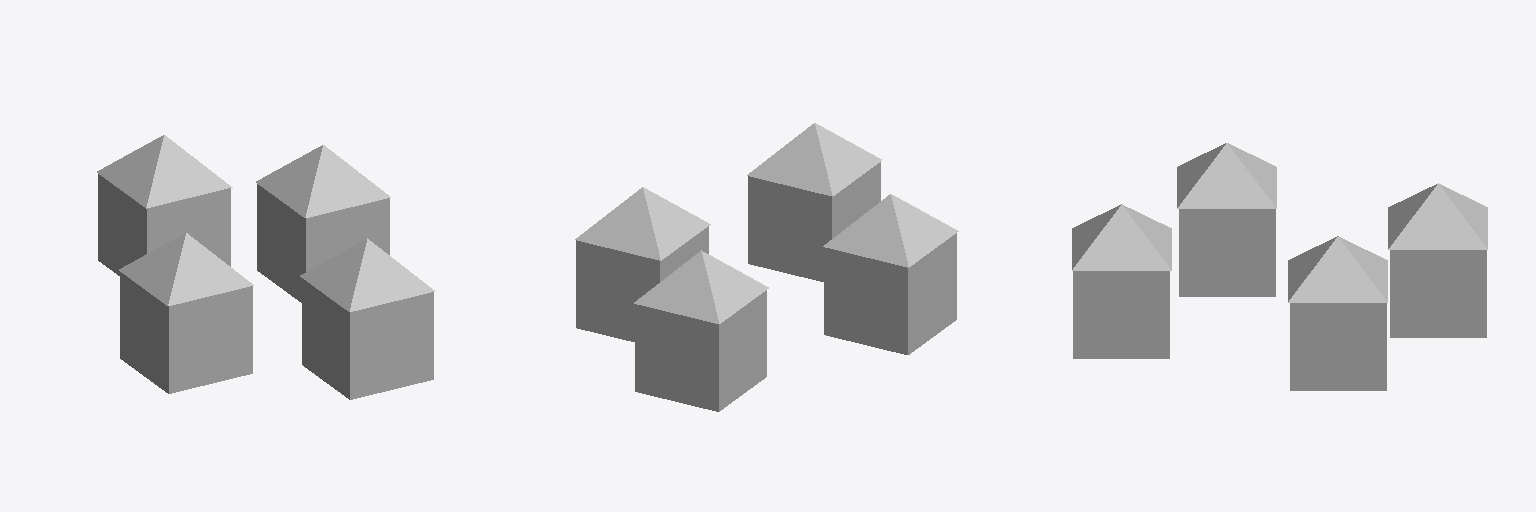
File: casas.obj
The picture shows the model from 3 angles: view 1: azimuth 30°, elevation 25°; view 2: azimuth 150°, elevation 25°; view 3: azimuth 270°, elevation 25°; orthographic projection.
Visible parts, largest first — view 1: Cube.001_Cube.002, Cube.003_Cube.004, Cube.002_Cube.003, Cube.004_Cube.005; view 2: Cube.001_Cube.002, Cube.004_Cube.005, Cube.003_Cube.004, Cube.002_Cube.003; view 3: Cube.002_Cube.003, Cube.003_Cube.004, Cube.004_Cube.005, Cube.001_Cube.002.
Boxes of the visible parts, <box> form: Cube.001_Cube.002: <box>119,233,253,393</box>; Cube.003_Cube.004: <box>300,238,434,399</box>; Cube.002_Cube.003: <box>256,145,390,302</box>; Cube.004_Cube.005: <box>97,135,232,275</box>; Cube.001_Cube.002: <box>823,194,958,354</box>; Cube.004_Cube.005: <box>634,250,768,411</box>; Cube.003_Cube.004: <box>747,123,881,281</box>; Cube.002_Cube.003: <box>575,187,710,341</box>; Cube.002_Cube.003: <box>1288,236,1387,390</box>; Cube.003_Cube.004: <box>1072,204,1171,358</box>; Cube.004_Cube.005: <box>1388,183,1487,337</box>; Cube.001_Cube.002: <box>1177,143,1276,296</box>.
Bounding box in the file's own units: 50.61 × 23.4 × 65.41.